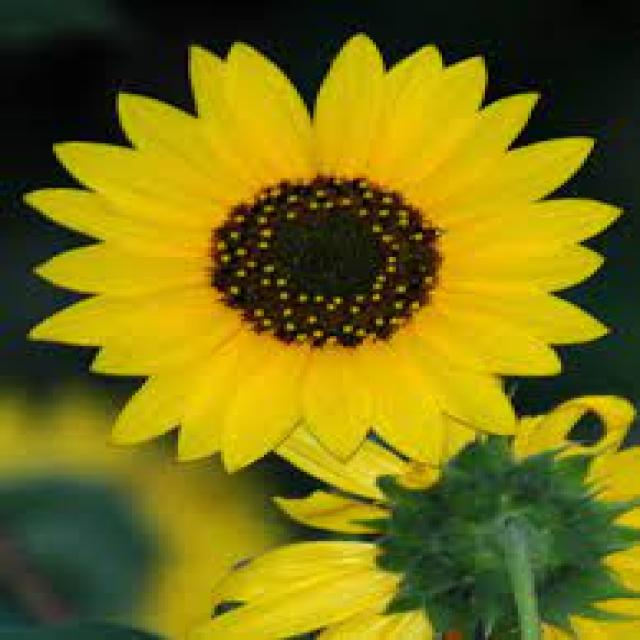sunflower: (22, 28, 628, 484), (168, 383, 640, 640)
